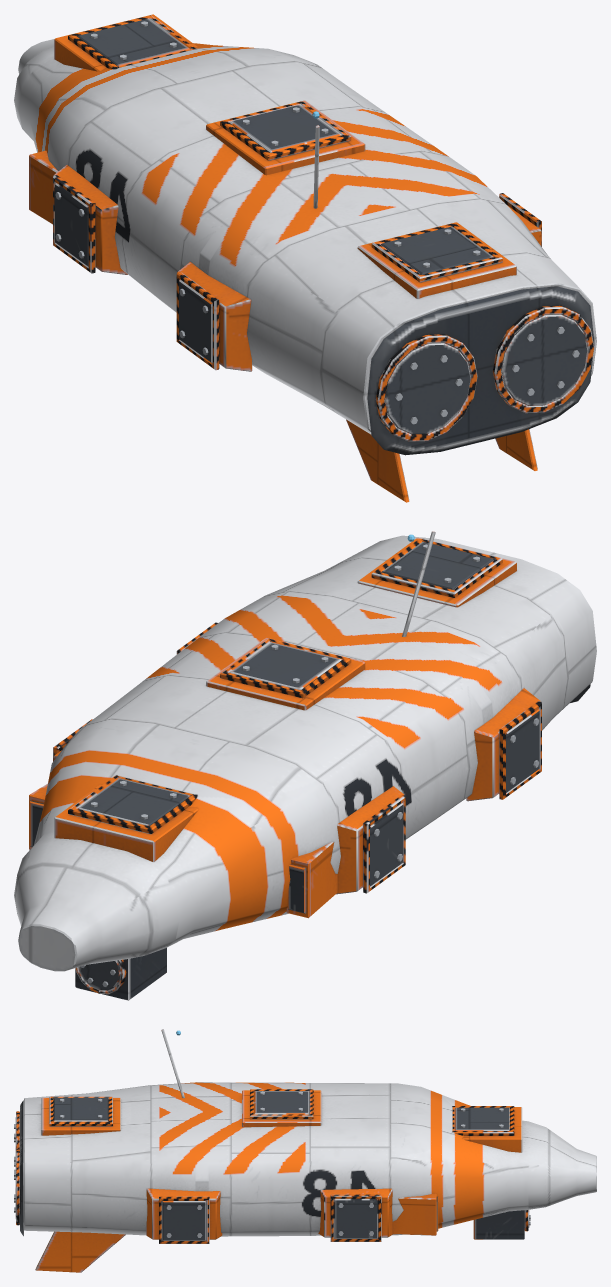
Rendered from casco_bombardero_t2.fbx.
3 renders of one model, top to bottom at view 1: azimuth 30°, elevation 25°; view 2: azimuth 150°, elevation 25°; view 3: azimuth 270°, elevation 25°, orthographic. The views are drawn at different scales.
Visible parts, largest first — view 1: casco_bombardero_t2; view 2: casco_bombardero_t2; view 3: casco_bombardero_t2.
Boxes of the visible parts, x1,y1,x2,y2 form: casco_bombardero_t2: (14,14,596,502); casco_bombardero_t2: (14,531,596,1000); casco_bombardero_t2: (14,1029,596,1272).
Bounding box in the file's own units: 7.98 × 7.12 × 18.31.
